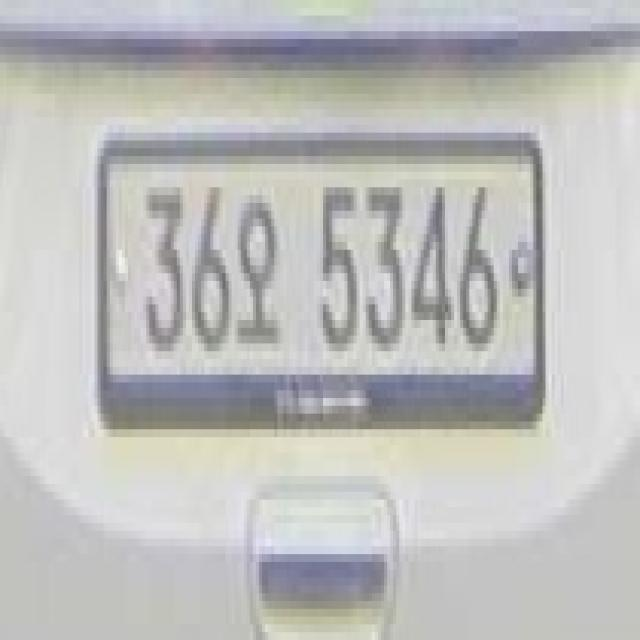3: (140, 180, 186, 351), (363, 180, 408, 351)
4: (408, 180, 454, 351)
5: (317, 164, 360, 351)
6: (189, 180, 232, 359), (457, 180, 500, 351)
license_plate: (98, 133, 540, 390)
o: (232, 195, 277, 351)
